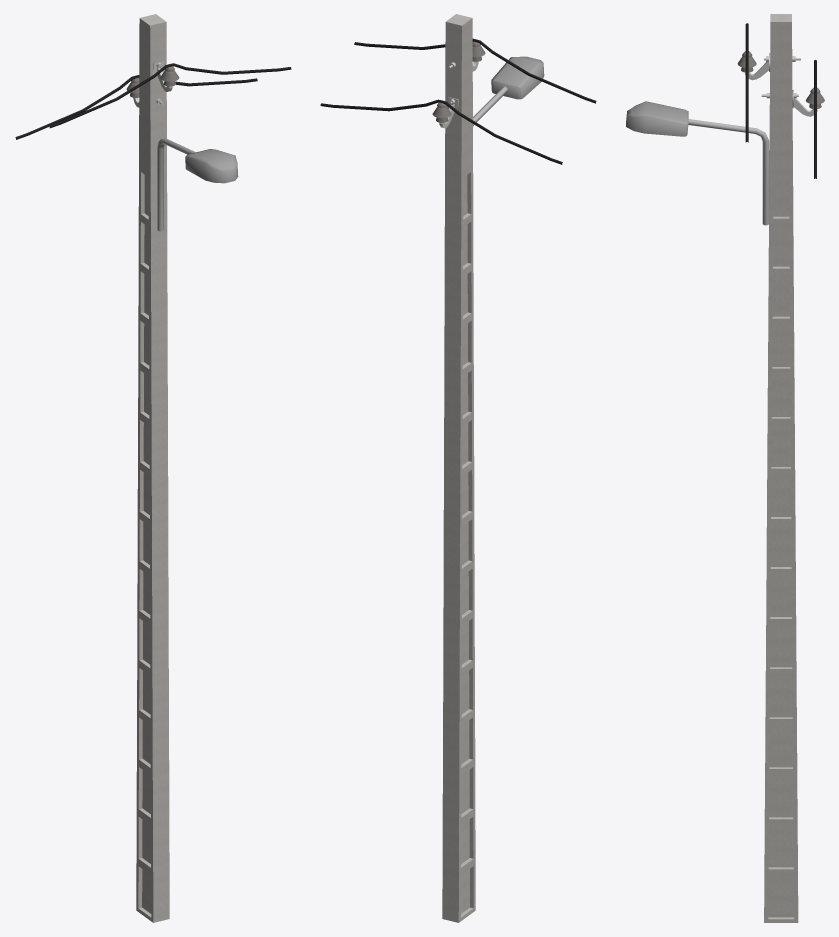
File: poteau-en-beton.glb
The picture shows the model from 3 angles, left to right: view 1: azimuth 30°, elevation 25°; view 2: azimuth 150°, elevation 25°; view 3: azimuth 270°, elevation 25°; orthographic projection.
Size of the model in its own units: 340 by 1202 by 241.
7 materials, 1 textured.
